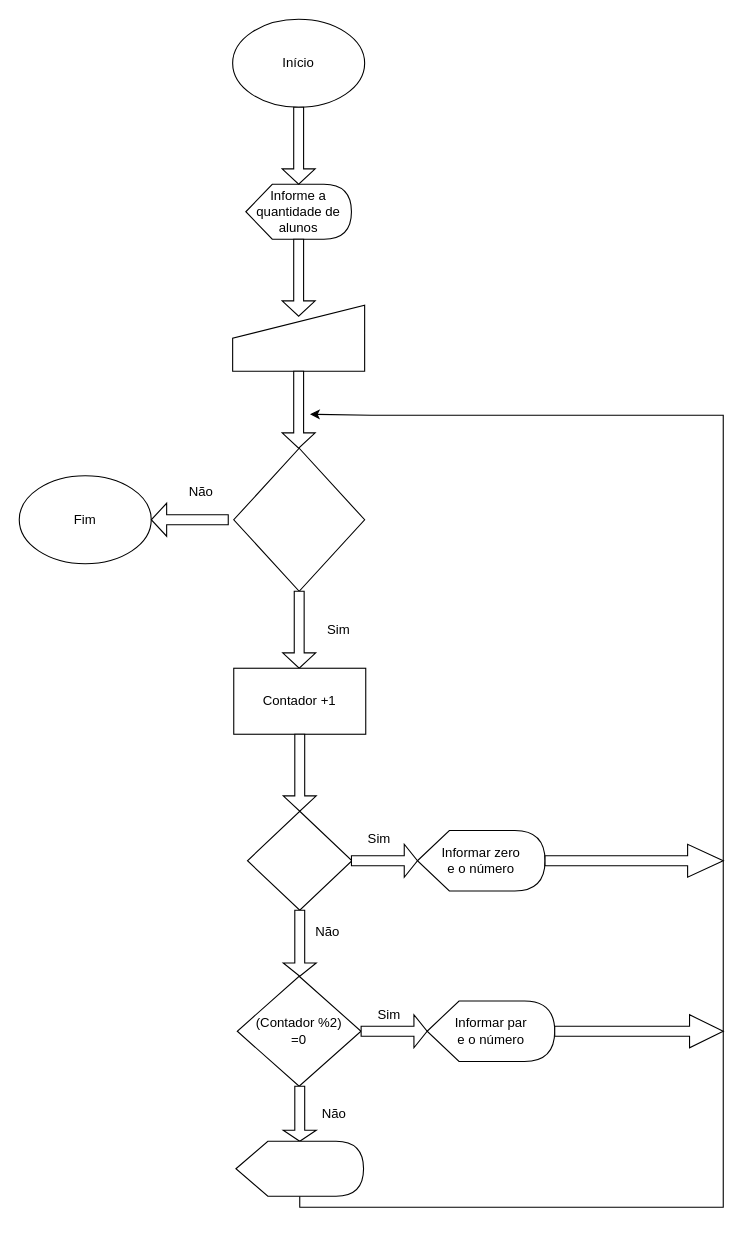
This 751x1235 diagram has some shape labels left out. The shapes that lost their labels are listed below. From the top down, each one's box as (x1, y1, x2, y2) in pixels, then its label:
(232, 304, 365, 371): Quantidade alunos
(233, 447, 365, 591): (Contador =0) <= quantidade alunos
(246, 810, 352, 910): Contador =0
(235, 1140, 364, 1196): Informe ímpar e o número
